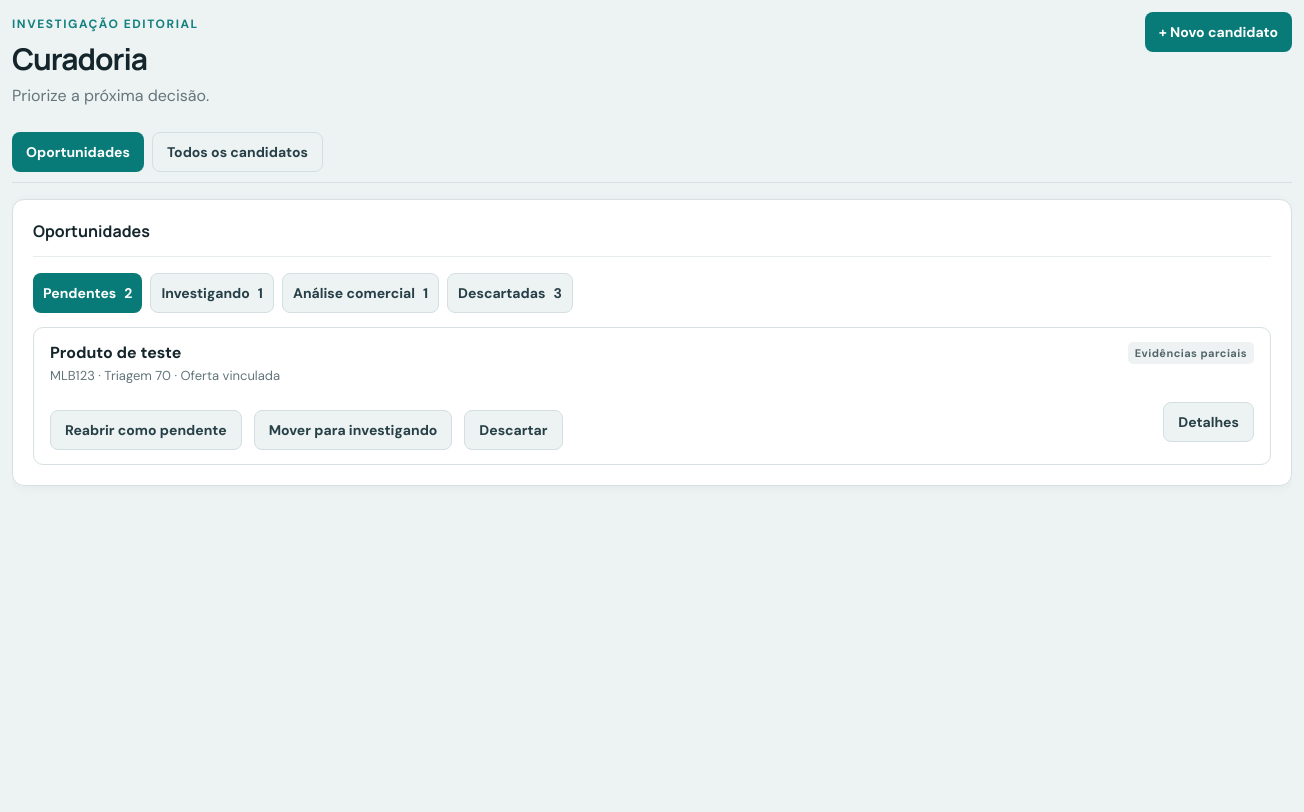
Scenario: Commercial analysis operator UI › shows translated partial-evidence blockers without a fatal error state
Expected: the heading "Produto de teste" is shown, [50, 342, 181, 363]
Click the button "Análise comercial 1" at (361, 293), box [282, 273, 439, 313]
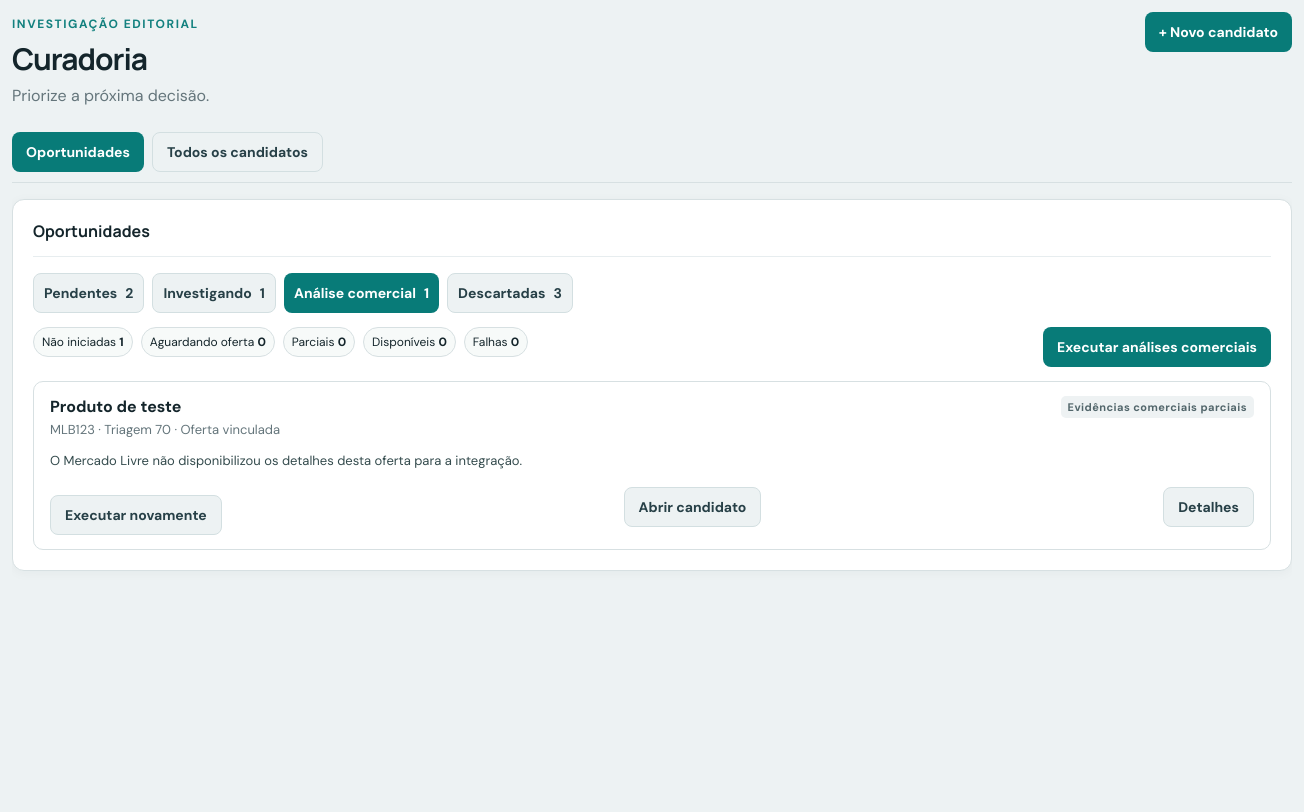
Result: the text "Evidências comerciais parciais" is shown at [1060, 396, 1254, 418]
Result: the text "O Mercado Livre não disponibilizou os detalhes desta oferta para a integração." is shown at [50, 452, 522, 469]
